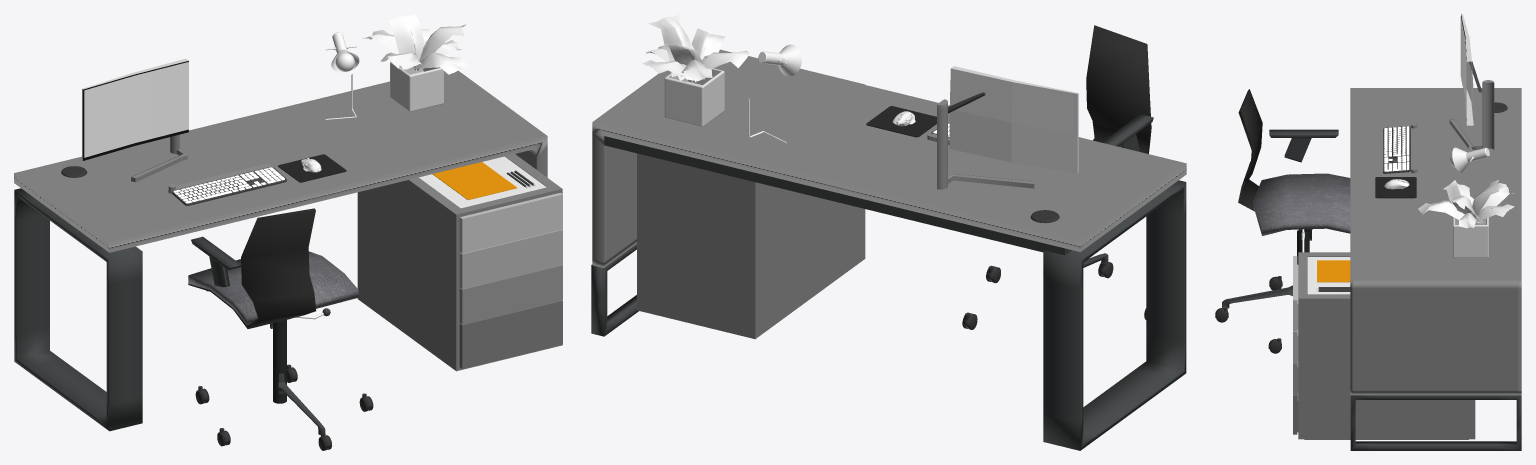
Rendered from escritorio.glb.
3 renders of one model, left to right at view 1: azimuth 30°, elevation 25°; view 2: azimuth 150°, elevation 25°; view 3: azimuth 270°, elevation 25°, orthographic. The views are drawn at different scales.
Visible parts, largest first — view 1: Cube, Cube.002, Cube.001, Circle.019, Plane.001, Cube.006, Cube.003, Cube.004, Cube.005, plant1, Plane.003, Cube.017 (+9 smaller); view 2: Cube, Cube.002, Cube.001, Circle.020, Plane.001, Cube.008, plant1, Cube.017, Cube.007, Cylinder.021, Cube.019, Cube.009 (+1 smaller); view 3: Cube, Cube.002, Plane.003, Cube.007, plant1, Plane.001, Cube.017, Cylinder.021, Cube.009, Plane.010, Cube.022, Cube.021 (+8 smaller).
Part boxes in pixels (x1,y1,x2,y2): Cube: (14,70,547,252); Cube.002: (357,154,562,371); Cube.001: (14,188,142,431); Circle.019: (84,62,188,157); Plane.001: (188,208,316,328); Cube.006: (459,300,562,368); Cube.003: (459,192,562,253); Cube.004: (459,229,562,289); Cube.005: (459,265,562,324); plant1: (362,14,467,74); Plane.003: (188,251,358,324); Cube.017: (390,61,443,111); Cube: (592,49,1186,267); Cube.002: (637,56,865,339); Cube.001: (1043,180,1186,450); Circle.020: (949,66,1078,173); Plane.001: (1086,25,1151,153); Cube.008: (604,136,1071,255); plant1: (642,14,748,82); Cube.017: (664,68,724,126); Cube.007: (591,244,638,336); Cylinder.021: (937,99,1034,189); Cube.019: (866,106,936,137); Cube.009: (1101,114,1153,151); Cube: (1350,88,1521,395); Cube.002: (1298,252,1475,439); Plane.003: (1253,173,1350,235); Cube.007: (1350,395,1521,450); plant1: (1418,180,1514,228); Plane.001: (1238,89,1262,211); Cube.017: (1453,217,1488,257); Cylinder.021: (1449,80,1494,150); Cube.009: (1269,129,1338,162); Plane.010: (1384,126,1409,171); Cube.022: (1307,257,1350,294); Cube.021: (1317,260,1350,282).
Bounding box in the file's own units: 1.86 × 1.17 × 1.25.
Materials: 49 (1 with a texture image).
